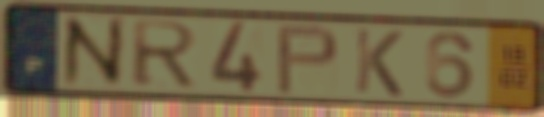4: (207, 19, 266, 96)
6: (422, 29, 479, 101)
K: (352, 25, 406, 100)
N: (59, 14, 129, 90)
P: (273, 23, 342, 96)
R: (128, 18, 202, 89)
